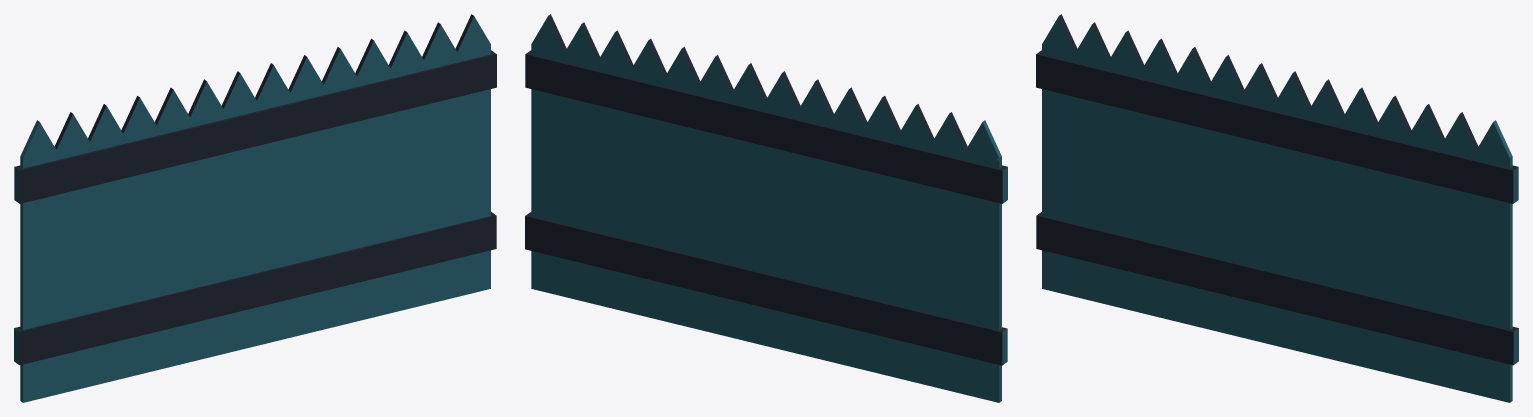
Rendered from fence.glb.
The picture shows the model from 3 angles, left to right: view 1: azimuth 30°, elevation 25°; view 2: azimuth 150°, elevation 25°; view 3: azimuth 330°, elevation 25°; orthographic projection.
Visible parts, largest first — view 1: fence; view 2: fence; view 3: fence.
Part boxes in pixels (x1,y1,x2,y2): fence: (14, 14, 496, 402); fence: (525, 14, 1007, 402); fence: (1036, 14, 1518, 402).
Size of what is drawn, in the model's own units: 10.2 by 5.66 by 0.2102.
Materials: 1 (1 with a texture image).
